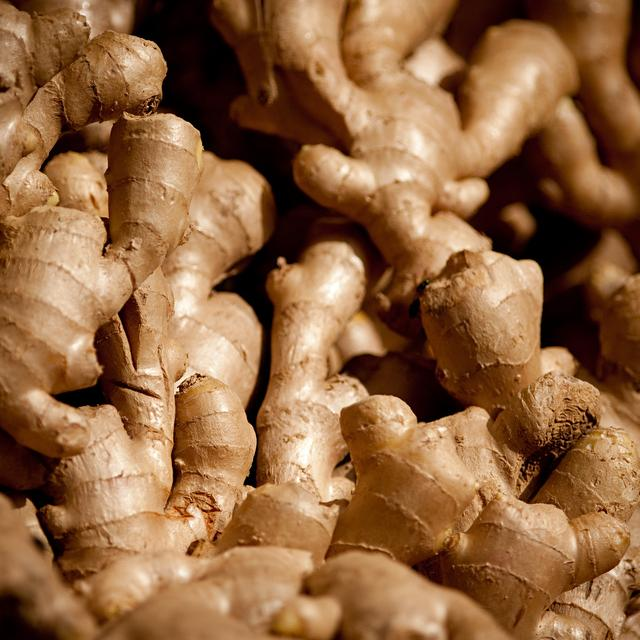ginger: (133, 136, 268, 468), (0, 201, 133, 457), (0, 488, 120, 636), (42, 120, 114, 210)
